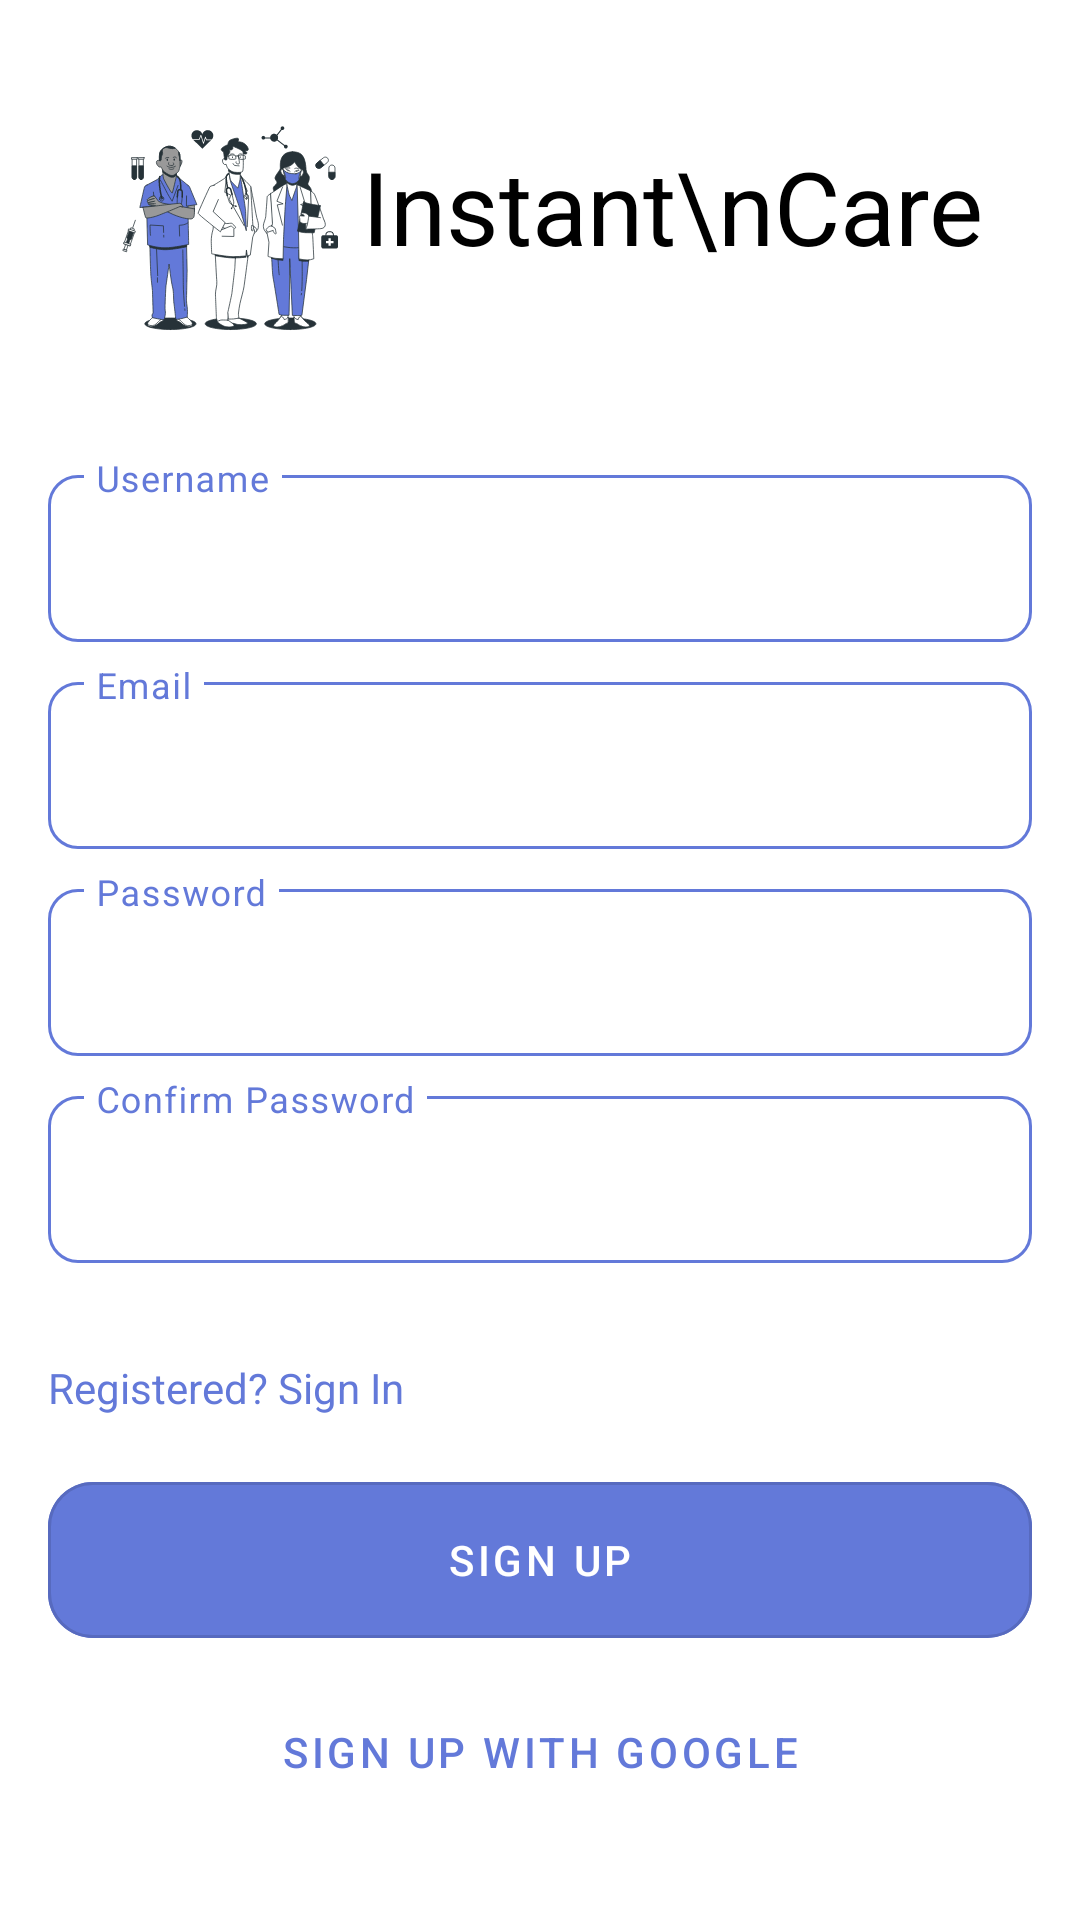

Icons on this 1080×1920 Android screen, each with the point to tap as point (x, y):
doctors: point (230, 228)
